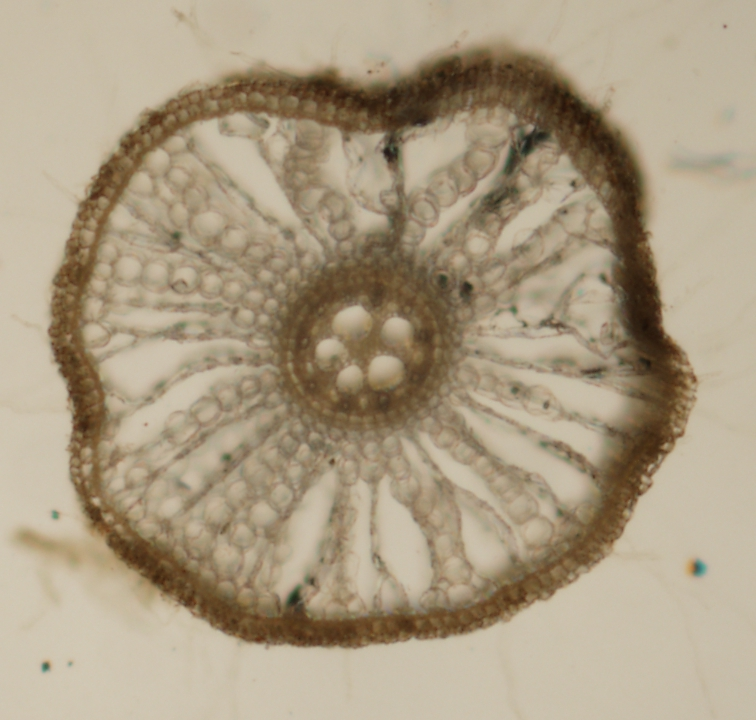lm: (332, 304, 373, 340), (367, 355, 406, 391), (313, 337, 349, 372), (380, 317, 415, 350), (336, 364, 364, 394)
